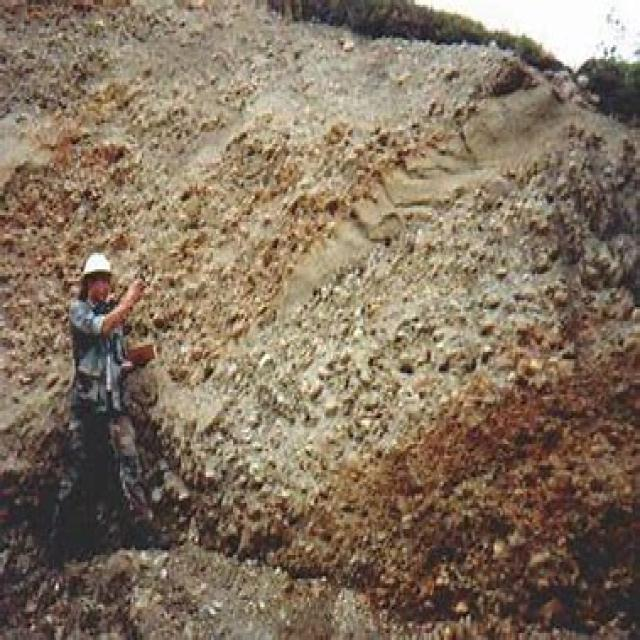Alluvial Soil: (169, 76, 492, 460)
